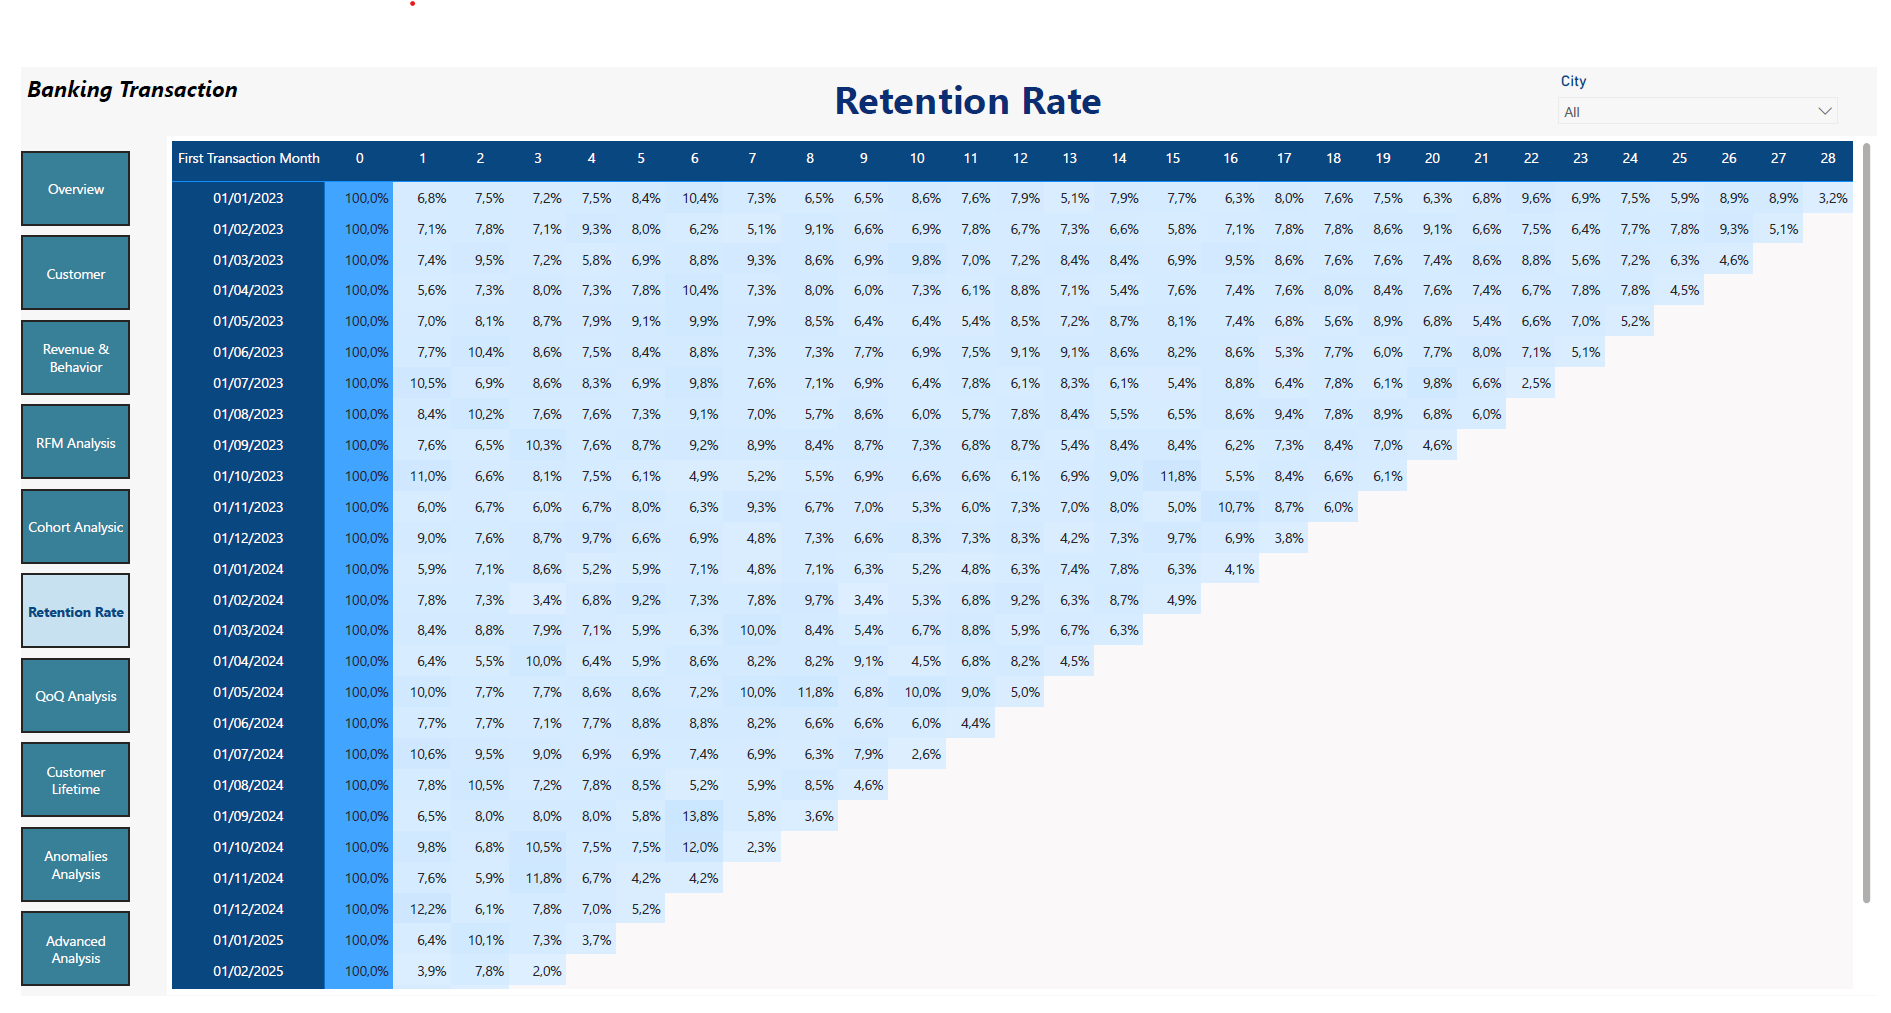

The page's visual inventory and layout, read from the dashboard file:
{"tool":"powerbi","page":{"name":"Retention Rate","canvas":[1800,900],"ordinal":6},"visuals":[{"type":"slicer","fields":{"Values":["Dim_Location.BranchCity"]},"box":[1481.5,0,291.1,67],"z":0},{"type":"pivotTable","fields":{"Rows":["Fact_Transaction.FirstTransactionMonth"],"Columns":["Fact_Transaction.MonthOffset"],"Values":["All Measures.Retention Rate"]},"box":[140.6,67,1659.7,832.3],"z":1000},{"type":"textbox","box":[782.8,0,300,67.2],"z":3000},{"type":"textbox","box":[0,0,300,67.2],"z":4000},{"type":"pageNavigator","box":[0,81,105.2,819],"z":4001}]}

Visuals, with their boxes on the page's 1800x900 design canvas (x1, y1, x2, y2). These are canvas units, not pixel positions in the 1891x1013 screenshot, which may show the page scaled, cropped or inside an application window:
slicer - Dim_Location.BranchCity: [left=1482, top=0, right=1773, bottom=67]
pivotTable - Fact_Transaction.FirstTransactionMonth x Fact_Transaction.MonthOffset: [left=141, top=67, right=1800, bottom=899]
textbox: [left=783, top=0, right=1083, bottom=67]
textbox: [left=0, top=0, right=300, bottom=67]
pageNavigator: [left=0, top=81, right=105, bottom=900]
